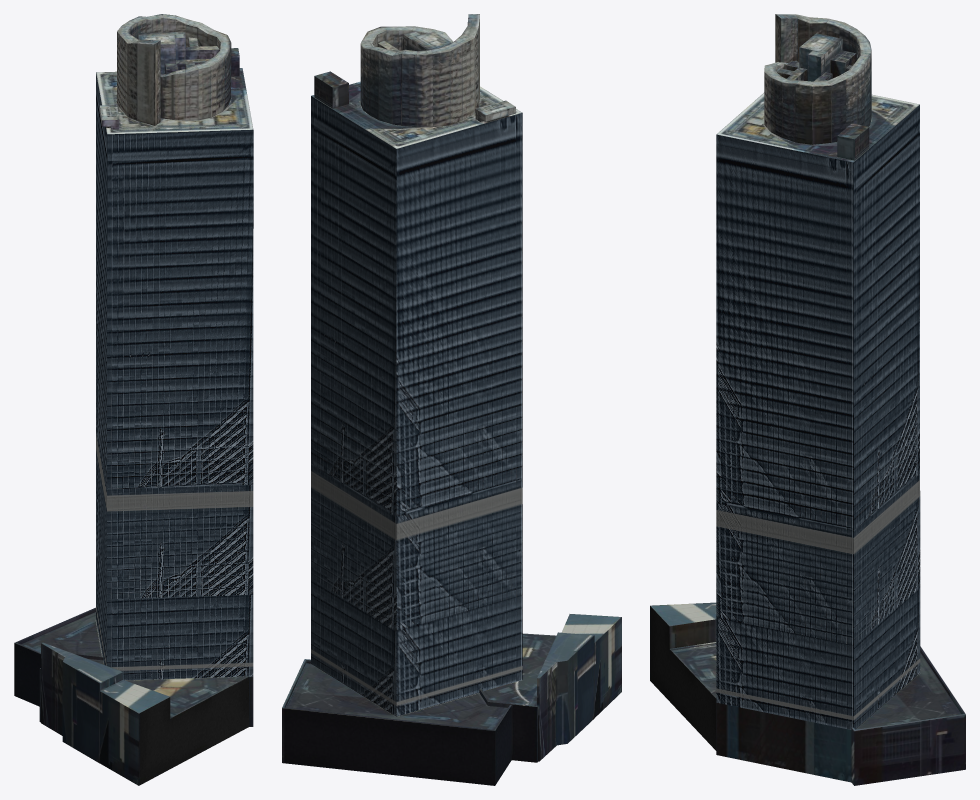
The picture shows the model from 3 angles, left to right: view 1: azimuth 30°, elevation 25°; view 2: azimuth 150°, elevation 25°; view 3: azimuth 270°, elevation 25°; orthographic projection. The views are drawn at different scales.
Visible parts, largest first — view 1: 10_0.glb; view 2: 10_0.glb; view 3: 10_0.glb.
Part boxes in pixels (x1,y1,x2,y2): 10_0.glb: (14,14,253,785); 10_0.glb: (282,14,621,785); 10_0.glb: (650,14,965,785).
Size of the model in its own units: 71.04 by 210 by 85.25.
2 materials, 2 textured.
